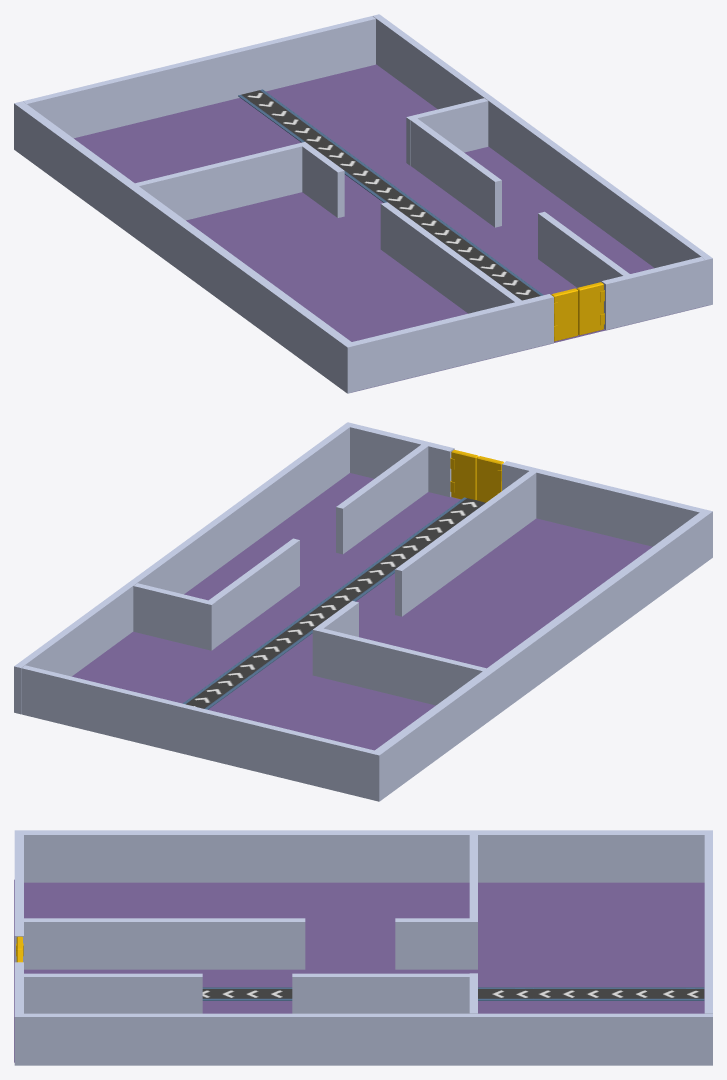
The model's file is maps60.fbx.
The picture shows the model from 3 angles, top to bottom: view 1: azimuth 30°, elevation 25°; view 2: azimuth 150°, elevation 25°; view 3: azimuth 270°, elevation 25°; orthographic projection. The views are drawn at different scales.
Visible parts, largest first — view 1: wall_01_08_geo, wall_01_07_geo, wall_01_09_geo19, wall_01_06_geo1, wall_01_05_geo1, wall_01_09_geo23, wall_01_09_geo37, wall_01_05_geo2, wall_01_09_geo39, wall_01_09_geo38, wall_01_09_geo35, wall_01_09_geo36 (+6 smaller); view 2: wall_01_08_geo, wall_01_07_geo, wall_01_09_geo19, wall_01_06_geo1, wall_01_05_geo1, wall_01_09_geo23, wall_01_09_geo37, wall_01_09_geo38, wall_01_09_geo39, wall_01_09_geo35, wall_01_05_geo2, conveyorBelt_geo14 (+6 smaller); view 3: wall_01_08_geo, wall_01_06_geo1, wall_01_07_geo, wall_01_09_geo37, wall_01_09_geo38, wall_01_09_geo39, wall_01_09_geo36, conveyorBelt_geo8, wall_01_09_geo19, conveyorBelt_geo16, wall_01_09_geo23, wall_01_05_geo1 (+2 smaller).
Boxes of the visible parts, bbox=[...] form: wall_01_08_geo: bbox=[74, 64, 707, 392]; wall_01_07_geo: bbox=[14, 101, 356, 393]; wall_01_09_geo19: bbox=[23, 16, 375, 138]; wall_01_06_geo1: bbox=[373, 14, 712, 306]; wall_01_05_geo1: bbox=[352, 294, 553, 391]; wall_01_09_geo23: bbox=[135, 142, 308, 220]; wall_01_09_geo37: bbox=[380, 202, 521, 313]; wall_01_05_geo2: bbox=[601, 257, 705, 330]; wall_01_09_geo39: bbox=[410, 118, 501, 227]; wall_01_09_geo38: bbox=[538, 211, 629, 287]; wall_01_09_geo35: bbox=[406, 98, 488, 165]; wall_01_09_geo36: bbox=[302, 145, 344, 217]; wall_01_08_geo: bbox=[72, 473, 652, 750]; wall_01_07_geo: bbox=[370, 509, 712, 801]; wall_01_09_geo19: bbox=[21, 665, 374, 799]; wall_01_06_geo1: bbox=[14, 422, 353, 714]; wall_01_05_geo1: bbox=[502, 461, 703, 546]; wall_01_09_geo23: bbox=[312, 627, 486, 705]; wall_01_09_geo37: bbox=[395, 471, 536, 616]; wall_01_09_geo38: bbox=[336, 444, 428, 554]; wall_01_09_geo39: bbox=[209, 538, 299, 646]; wall_01_09_geo35: bbox=[133, 583, 215, 650]; wall_01_05_geo2: bbox=[350, 424, 454, 497]; conveyorBelt_geo14: bbox=[220, 616, 322, 682]; wall_01_08_geo: bbox=[14, 879, 704, 1062]; wall_01_06_geo1: bbox=[14, 1013, 712, 1065]; wall_01_07_geo: bbox=[14, 830, 712, 882]; wall_01_09_geo37: bbox=[24, 918, 305, 969]; wall_01_09_geo38: bbox=[24, 973, 202, 1013]; wall_01_09_geo39: bbox=[292, 973, 469, 1013]; wall_01_09_geo36: bbox=[395, 918, 469, 969]; conveyorBelt_geo8: bbox=[533, 987, 704, 1000]; wall_01_09_geo19: bbox=[704, 835, 712, 1013]; conveyorBelt_geo16: bbox=[202, 987, 292, 1000]; wall_01_09_geo23: bbox=[469, 835, 477, 969]; wall_01_05_geo1: bbox=[14, 835, 23, 962].
Bounding box in the file's own units: 73.34 × 8.89 × 116.
Materials: 3 (3 with a texture image).
